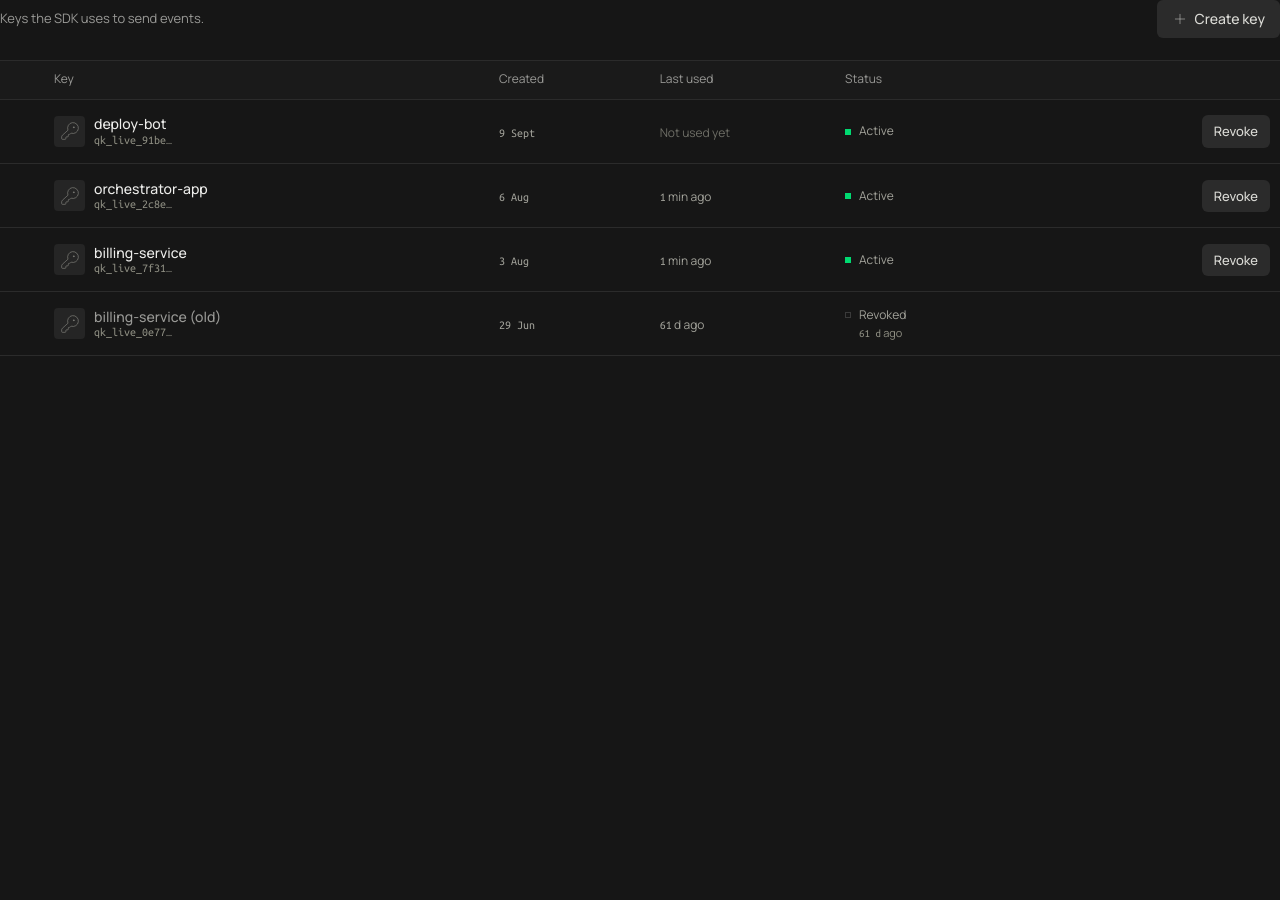
Test case: KeysPanel › creates a key through the drawer, reads out its name and lists it once the page reloads
Click the button "Create key" at (1218, 19), box top-left (1157, 0), bottom-right (1279, 38)
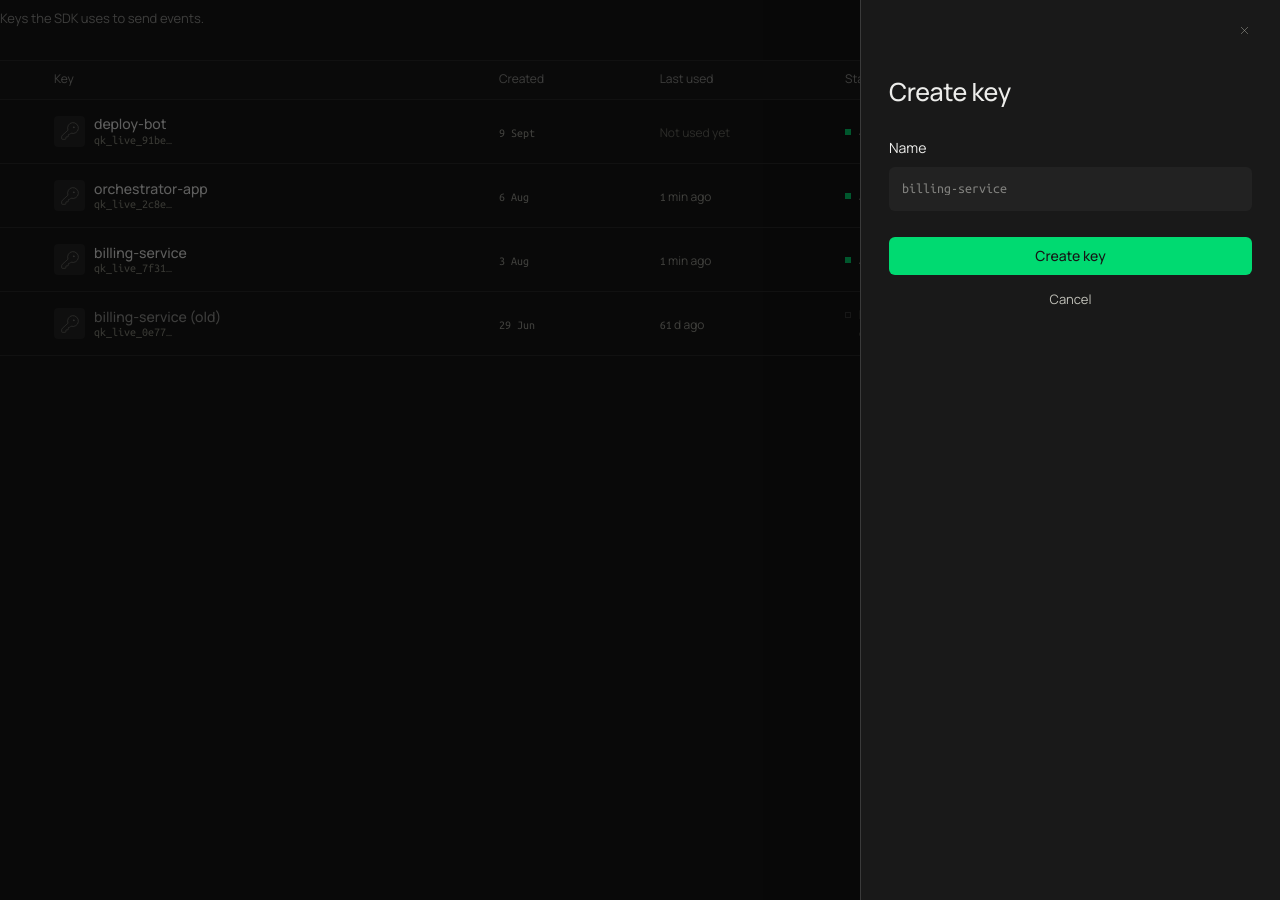
Type "reports" into the field labelled "Name" at (1070, 189), box top-left (889, 167), bottom-right (1252, 211)
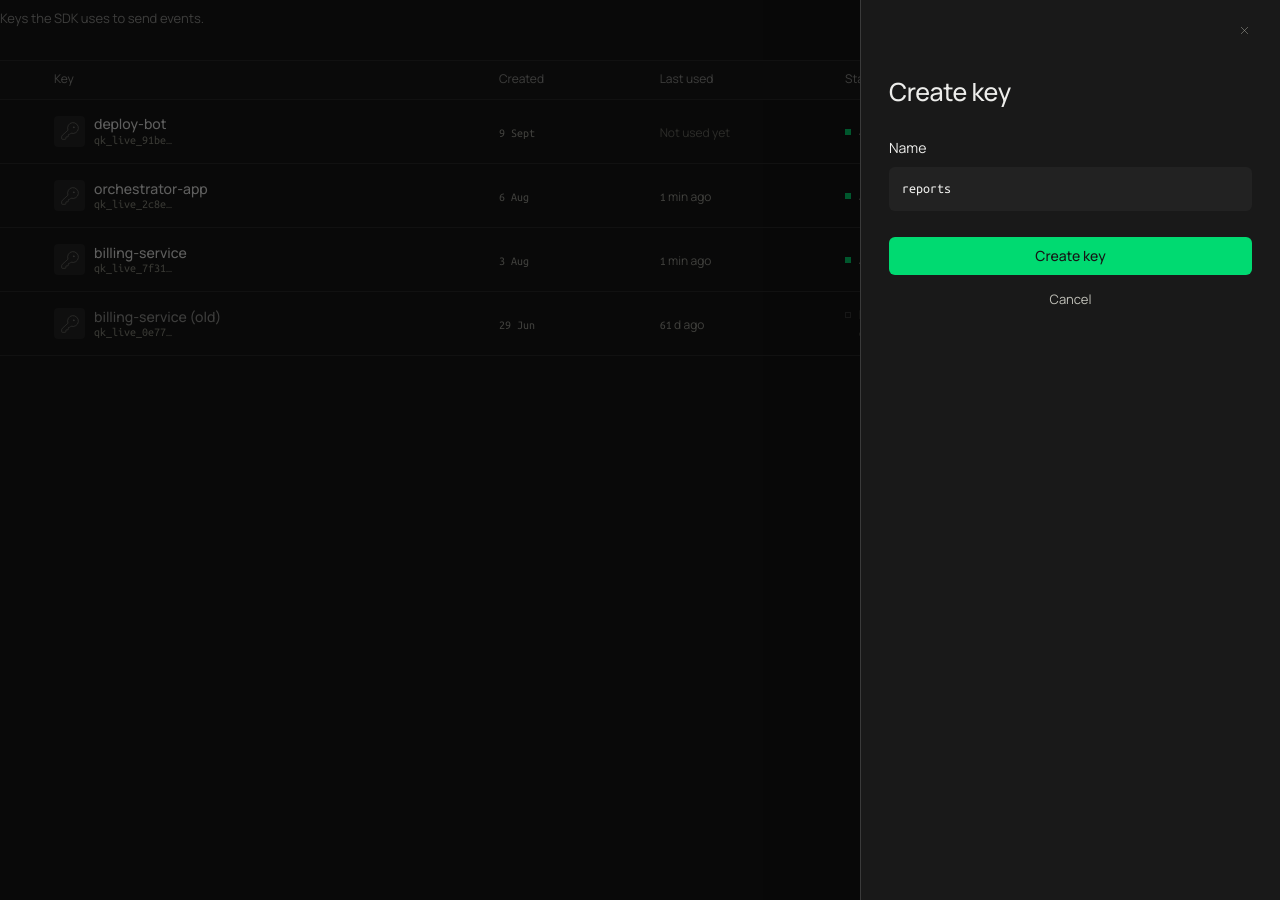
Click the button "Create key" at (1070, 256), box top-left (889, 237), bottom-right (1252, 275)
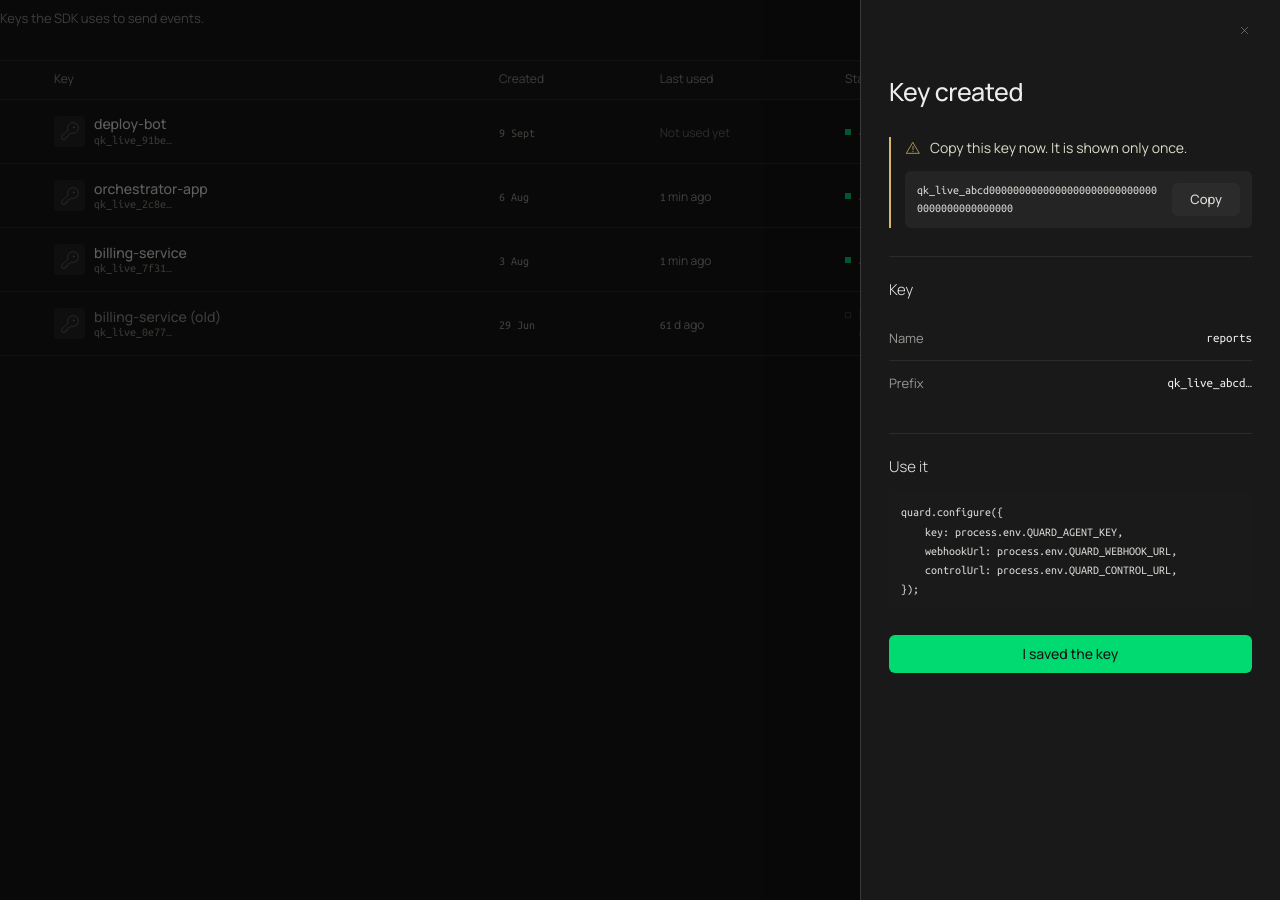
Result: the dialog "Key created" is shown at top-left (860, 0), bottom-right (1279, 899)
Click the button "I saved the key" at (1070, 654), box top-left (889, 635), bottom-right (1252, 673)
Wait 240 ms
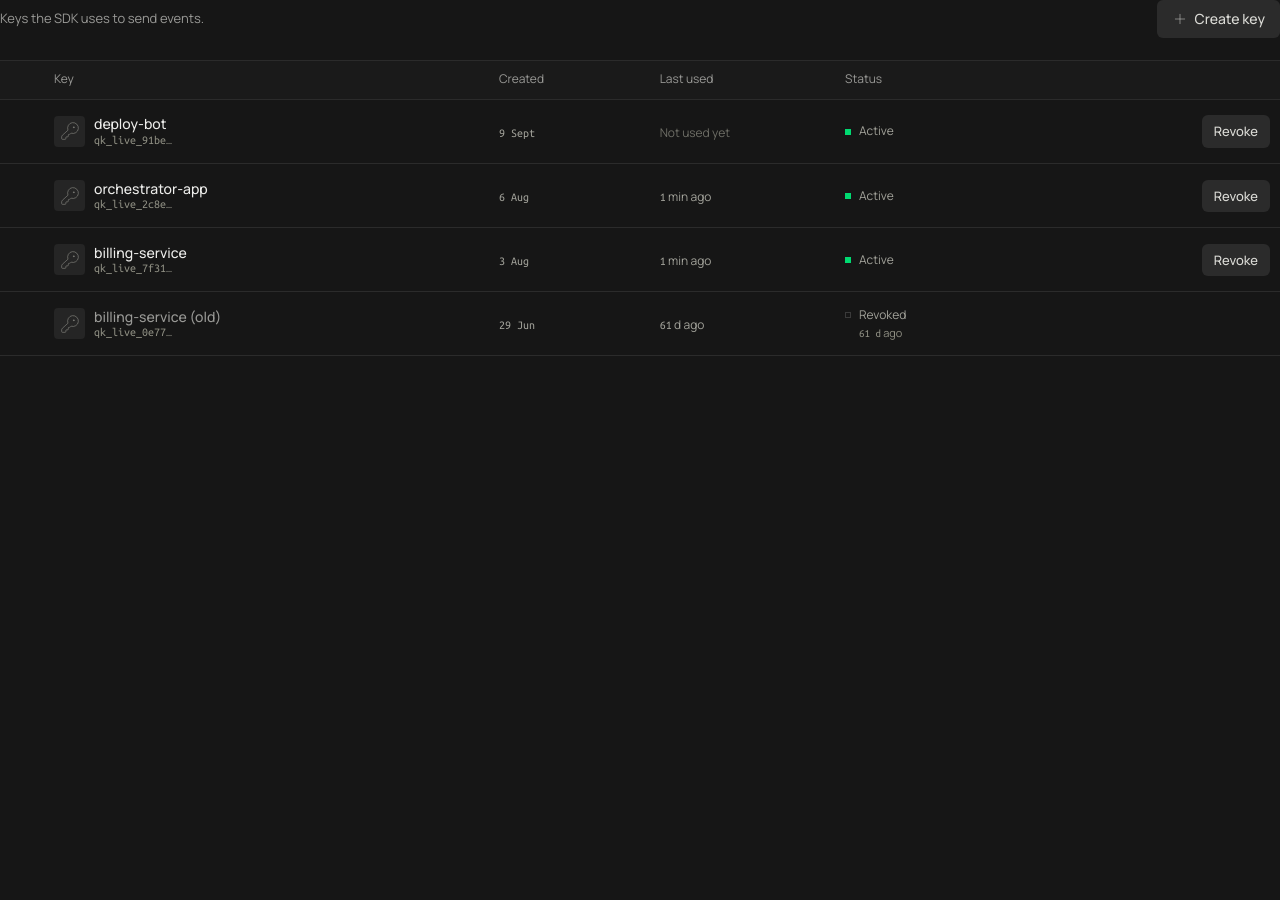
Result: the dialog is gone
